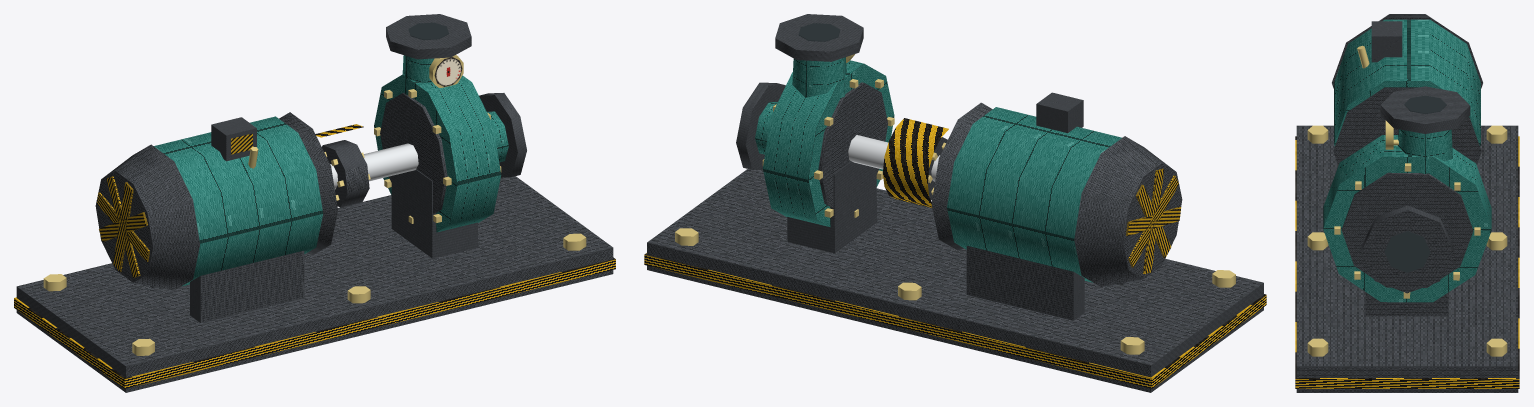
The model's file is small_teal_motor_pump.glb.
3 renders of one model, left to right at view 1: azimuth 30°, elevation 25°; view 2: azimuth 150°, elevation 25°; view 3: azimuth 270°, elevation 25°, orthographic. The views are drawn at different scales.
Visible parts, largest first — view 1: Steel_Skid_Base, Electric_Motor_Stator, Centrifugal_Volute_Pump, Stator_Core, Intake_Discharge_Manifolds, Drive_Shaft_And_Coupling, Junction_Box, PSI_Pressure_Gauge; view 2: Steel_Skid_Base, Electric_Motor_Stator, Stator_Core, Centrifugal_Volute_Pump, Intake_Discharge_Manifolds, Drive_Shaft_And_Coupling, Junction_Box; view 3: Steel_Skid_Base, Centrifugal_Volute_Pump, Intake_Discharge_Manifolds, Stator_Core, Electric_Motor_Stator, Junction_Box, PSI_Pressure_Gauge.
Part boxes in pixels (box(x1,y1,x2,y2)): Steel_Skid_Base: box(14, 176, 615, 392); Electric_Motor_Stator: box(95, 112, 337, 322); Centrifugal_Volute_Pump: box(374, 74, 501, 258); Stator_Core: box(154, 116, 323, 286); Intake_Discharge_Manifolds: box(386, 14, 526, 177); Drive_Shaft_And_Coupling: box(315, 124, 418, 207); Junction_Box: box(211, 117, 258, 168); PSI_Pressure_Gauge: box(429, 55, 463, 87); Steel_Skid_Base: box(644, 169, 1266, 392); Electric_Motor_Stator: box(931, 102, 1182, 320); Stator_Core: box(947, 107, 1121, 282); Centrifugal_Volute_Pump: box(762, 60, 894, 253); Intake_Discharge_Manifolds: box(736, 14, 863, 169); Drive_Shaft_And_Coupling: box(848, 118, 948, 207); Junction_Box: box(1036, 92, 1083, 133); Steel_Skid_Base: box(1295, 125, 1519, 392); Centrifugal_Volute_Pump: box(1323, 135, 1491, 316); Intake_Discharge_Manifolds: box(1361, 86, 1470, 293); Stator_Core: box(1334, 19, 1480, 146); Electric_Motor_Stator: box(1332, 14, 1482, 165); Junction_Box: box(1357, 21, 1402, 68); PSI_Pressure_Gauge: box(1385, 120, 1398, 149).
Size of the model in its own units: 6.21 by 2.73 by 2.43.
Materials: 9 (4 with a texture image).
